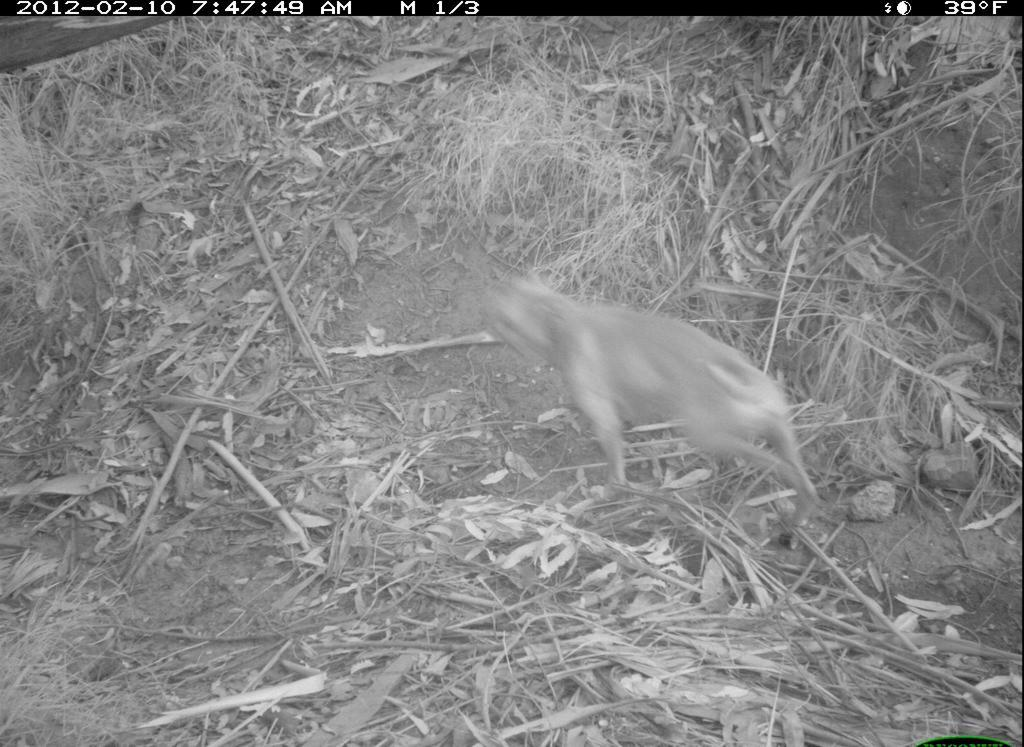dog: (454, 258, 826, 537)
